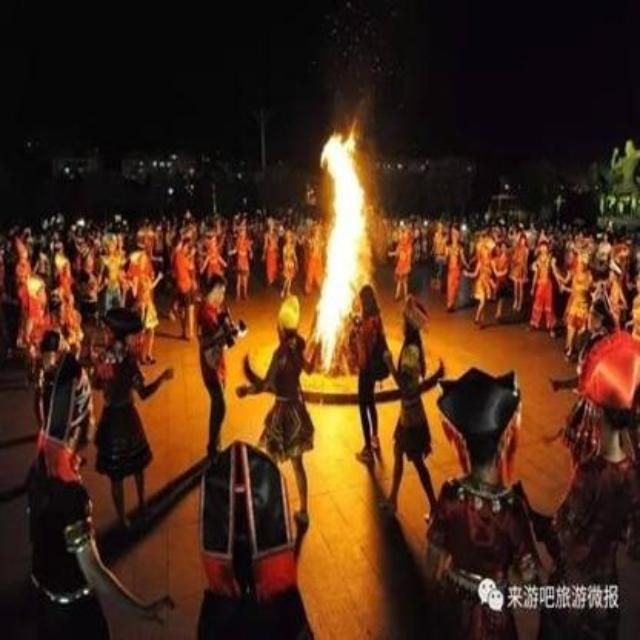Fire: (307, 118, 375, 372)
